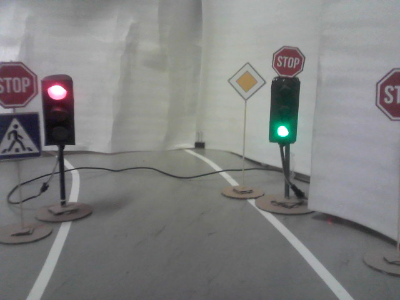crosswalk: (1, 112, 41, 155)
priority_road: (229, 61, 264, 99)
stop: (1, 62, 38, 107), (273, 48, 302, 76)
trafficlight_green: (269, 80, 295, 141)
trafficlight_red: (43, 79, 72, 144)
